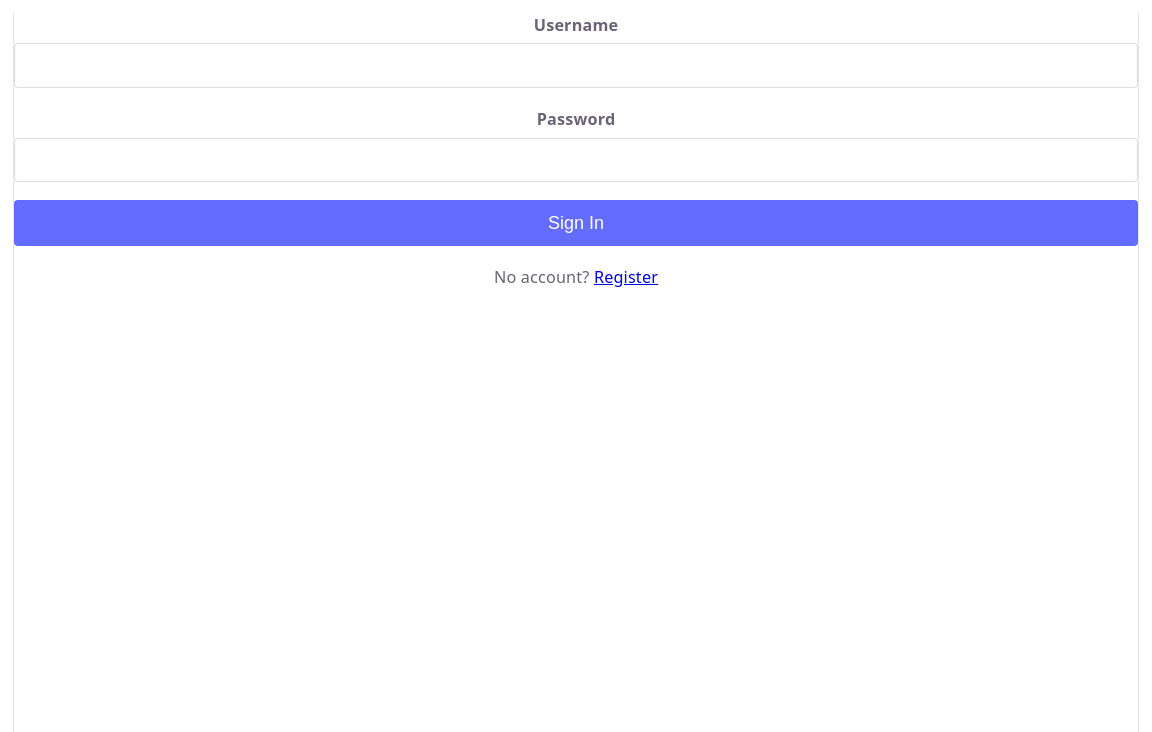
Scenario: LoginPage (integration with real store + router) › login failure increments loginFailureCount in the real store
Type "alice" into the field at coordinates (576, 66), box [14,44,1138,88]
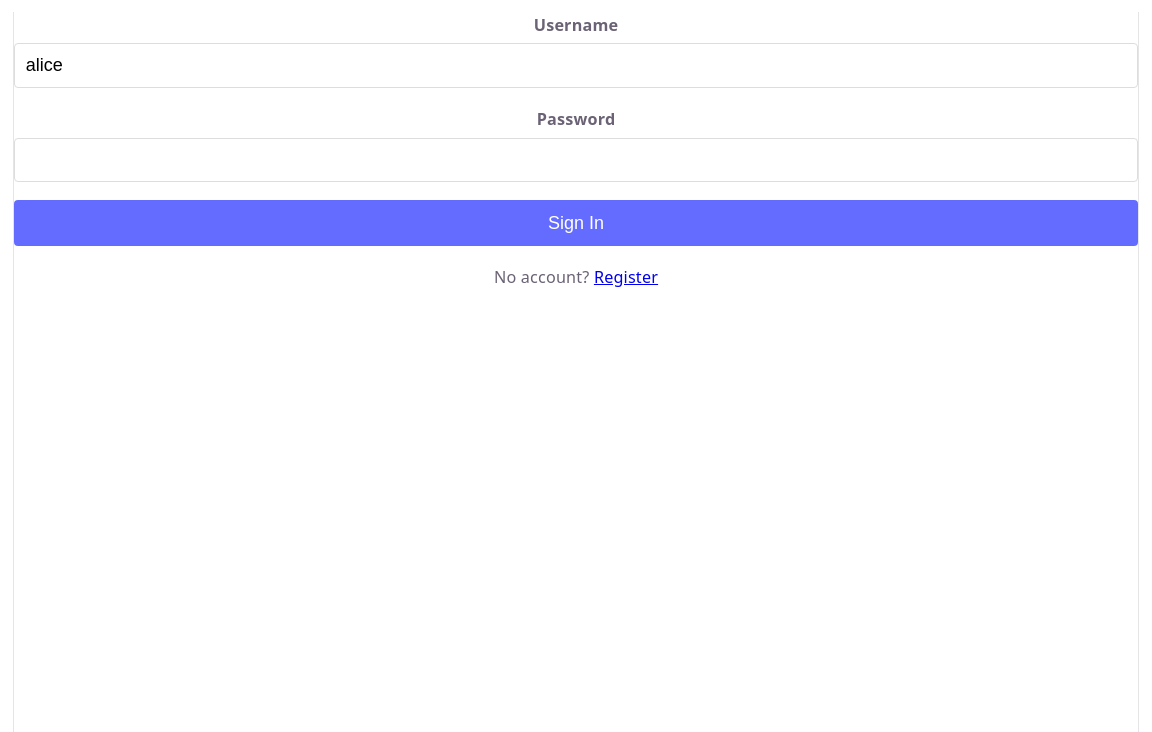
Type "wrong" into the password field at coordinates (576, 160), box [14,138,1138,182]
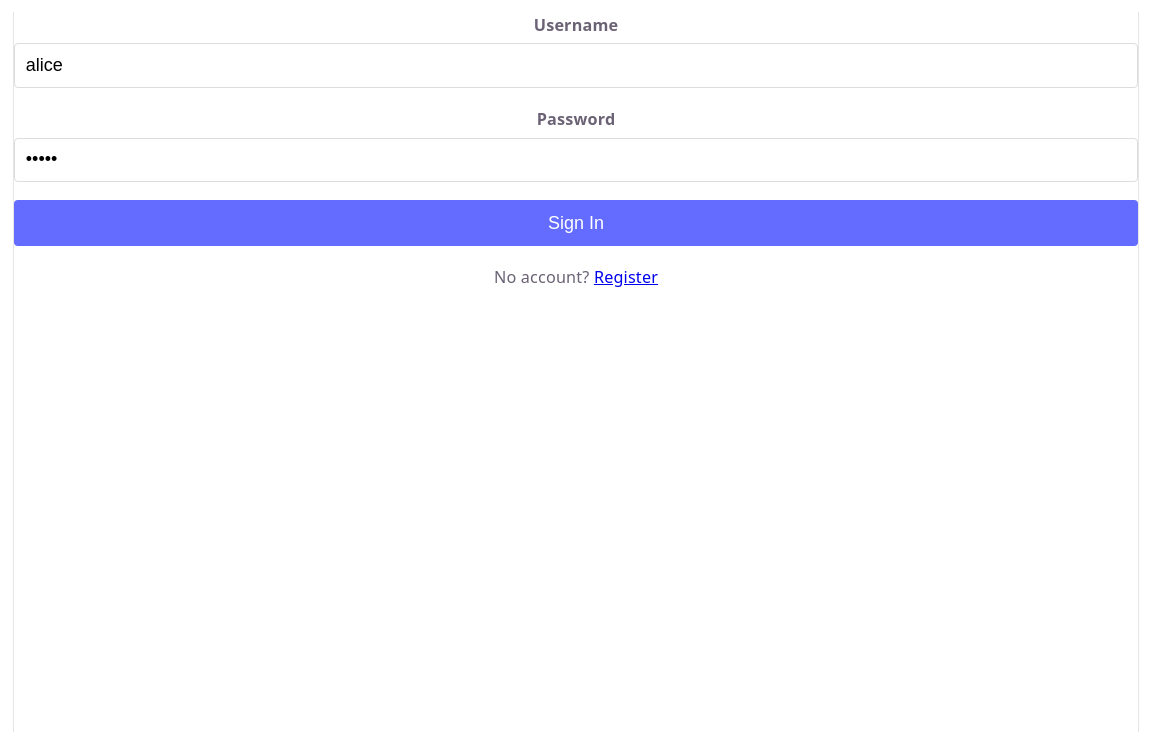
Submit the form, box [14,12,1138,290]
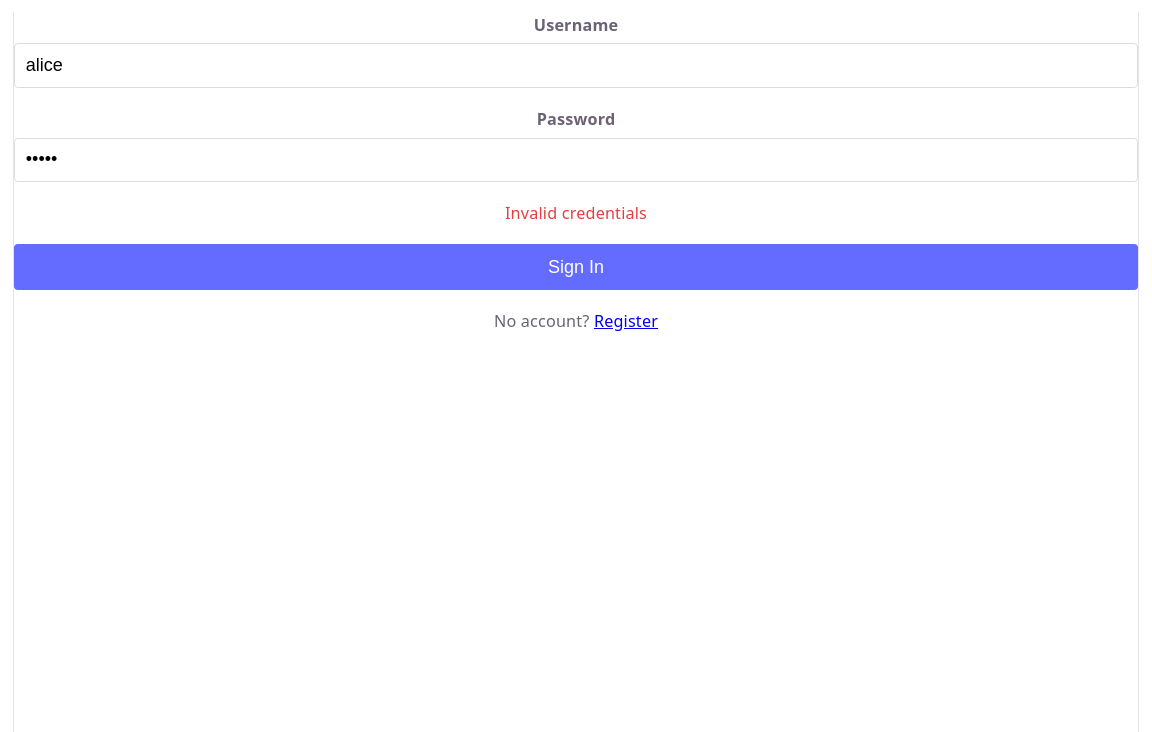
Expected: the text with class "error-text" reads "Invalid credentials", [505,202,647,224]
